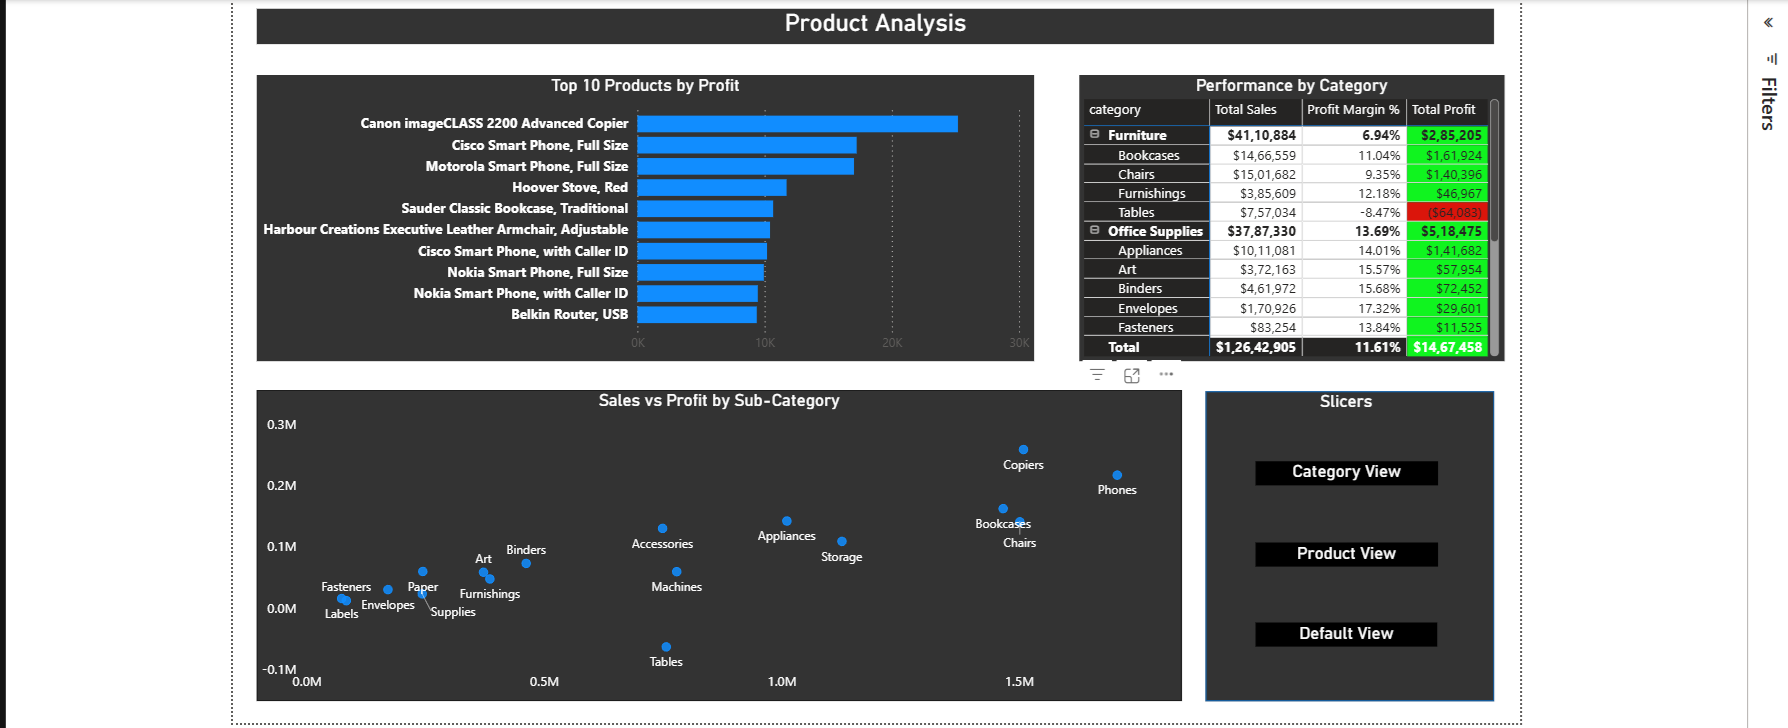

This screenshot's page, from the dashboard's own definition file:
{"tool":"powerbi","page":{"name":"Product Analysis","canvas":[1280,720],"ordinal":1},"visuals":[{"type":"textbox","title":"Product Analysis","box":[23.6,8.7,1231.5,34.8],"z":0},{"type":"actionButton","title":"Category View","box":[1017.6,459,181.4,47.9],"z":0,"group":"g1"},{"type":"barChart","title":"Top 10 Products by Profit","fields":{"Category":["dim_product.product_name"],"Y":["_Measures.Total Profit"]},"box":[23.6,74.6,773.7,284.9],"z":1000},{"type":"actionButton","title":"Product View","box":[1017.6,539.5,181.4,47.9],"z":1000,"group":"g1"},{"type":"pivotTable","title":"Performance by Category","fields":{"Rows":["dim_product.category","dim_product.sub_category"],"Values":["_Measures.Total Sales","_Measures.Profit Margin %","_Measures.Total Profit"]},"box":[842.2,74.6,422.9,284.9],"z":2000},{"type":"actionButton","title":"Default View","box":[1017.9,620,180.7,42.2],"z":2000,"group":"g1"},{"type":"scatterChart","title":"Sales vs Profit by Sub-Category","fields":{"X":["_Measures.Total Sales"],"Y":["_Measures.Total Profit"],"Category":["dim_product.sub_category"]},"box":[23.6,388.1,920.5,309.7],"z":3000},{"type":"shape","box":[967.8,389.4,287.4,308.5],"z":3500},{"type":"group","id":"g1","title":"Bookmark Group","box":[1017.6,459,180.4,202.8],"z":4000},{"type":"textbox","title":"Slicers","box":[1038.7,389.4,138.1,21.1],"z":4001}]}

Visuals, with their boxes in screenshot pixels (x1, y1, x2, y2):
"Product Analysis" textbox: {"left": 256, "top": 4, "right": 1482, "bottom": 39}
"Category View" actionButton: {"left": 1245, "top": 452, "right": 1426, "bottom": 500}
"Top 10 Products by Profit" barChart: {"left": 256, "top": 70, "right": 1026, "bottom": 353}
"Product View" actionButton: {"left": 1245, "top": 532, "right": 1426, "bottom": 580}
"Performance by Category" pivotTable: {"left": 1071, "top": 70, "right": 1491, "bottom": 353}
"Default View" actionButton: {"left": 1246, "top": 612, "right": 1425, "bottom": 654}
"Sales vs Profit by Sub-Category" scatterChart: {"left": 256, "top": 381, "right": 1172, "bottom": 690}
shape: {"left": 1196, "top": 383, "right": 1482, "bottom": 690}
"Bookmark Group" group: {"left": 1245, "top": 452, "right": 1425, "bottom": 654}
"Slicers" textbox: {"left": 1266, "top": 383, "right": 1404, "bottom": 404}
